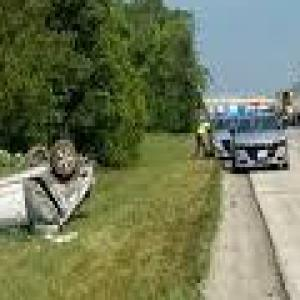fatal: (0, 136, 98, 249)
